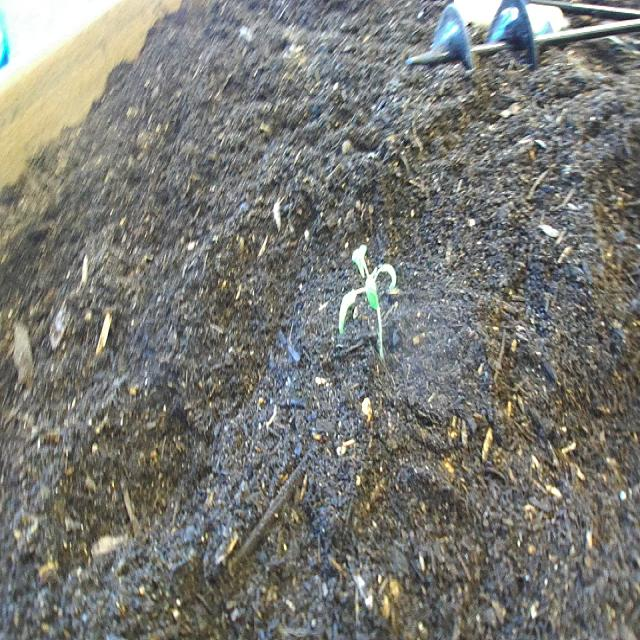Healthy: (327, 222, 414, 380)
